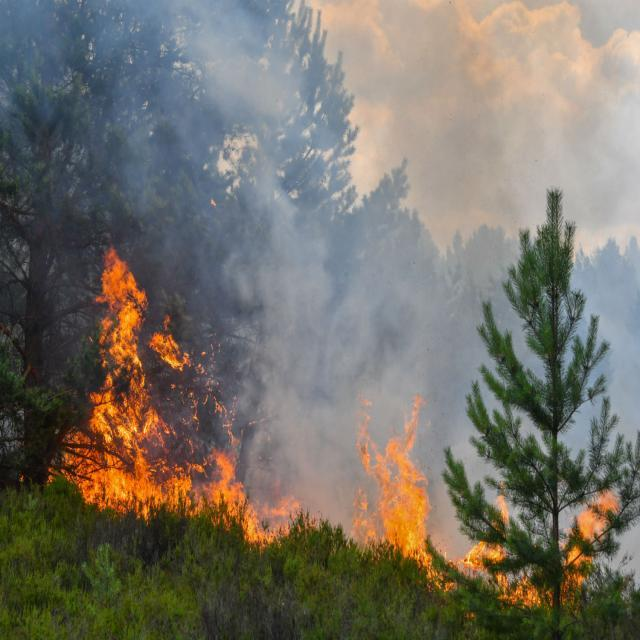Fire: (42, 239, 259, 533), (372, 451, 428, 562)
Smoke: (169, 4, 640, 210), (246, 155, 354, 507), (364, 217, 466, 428)
